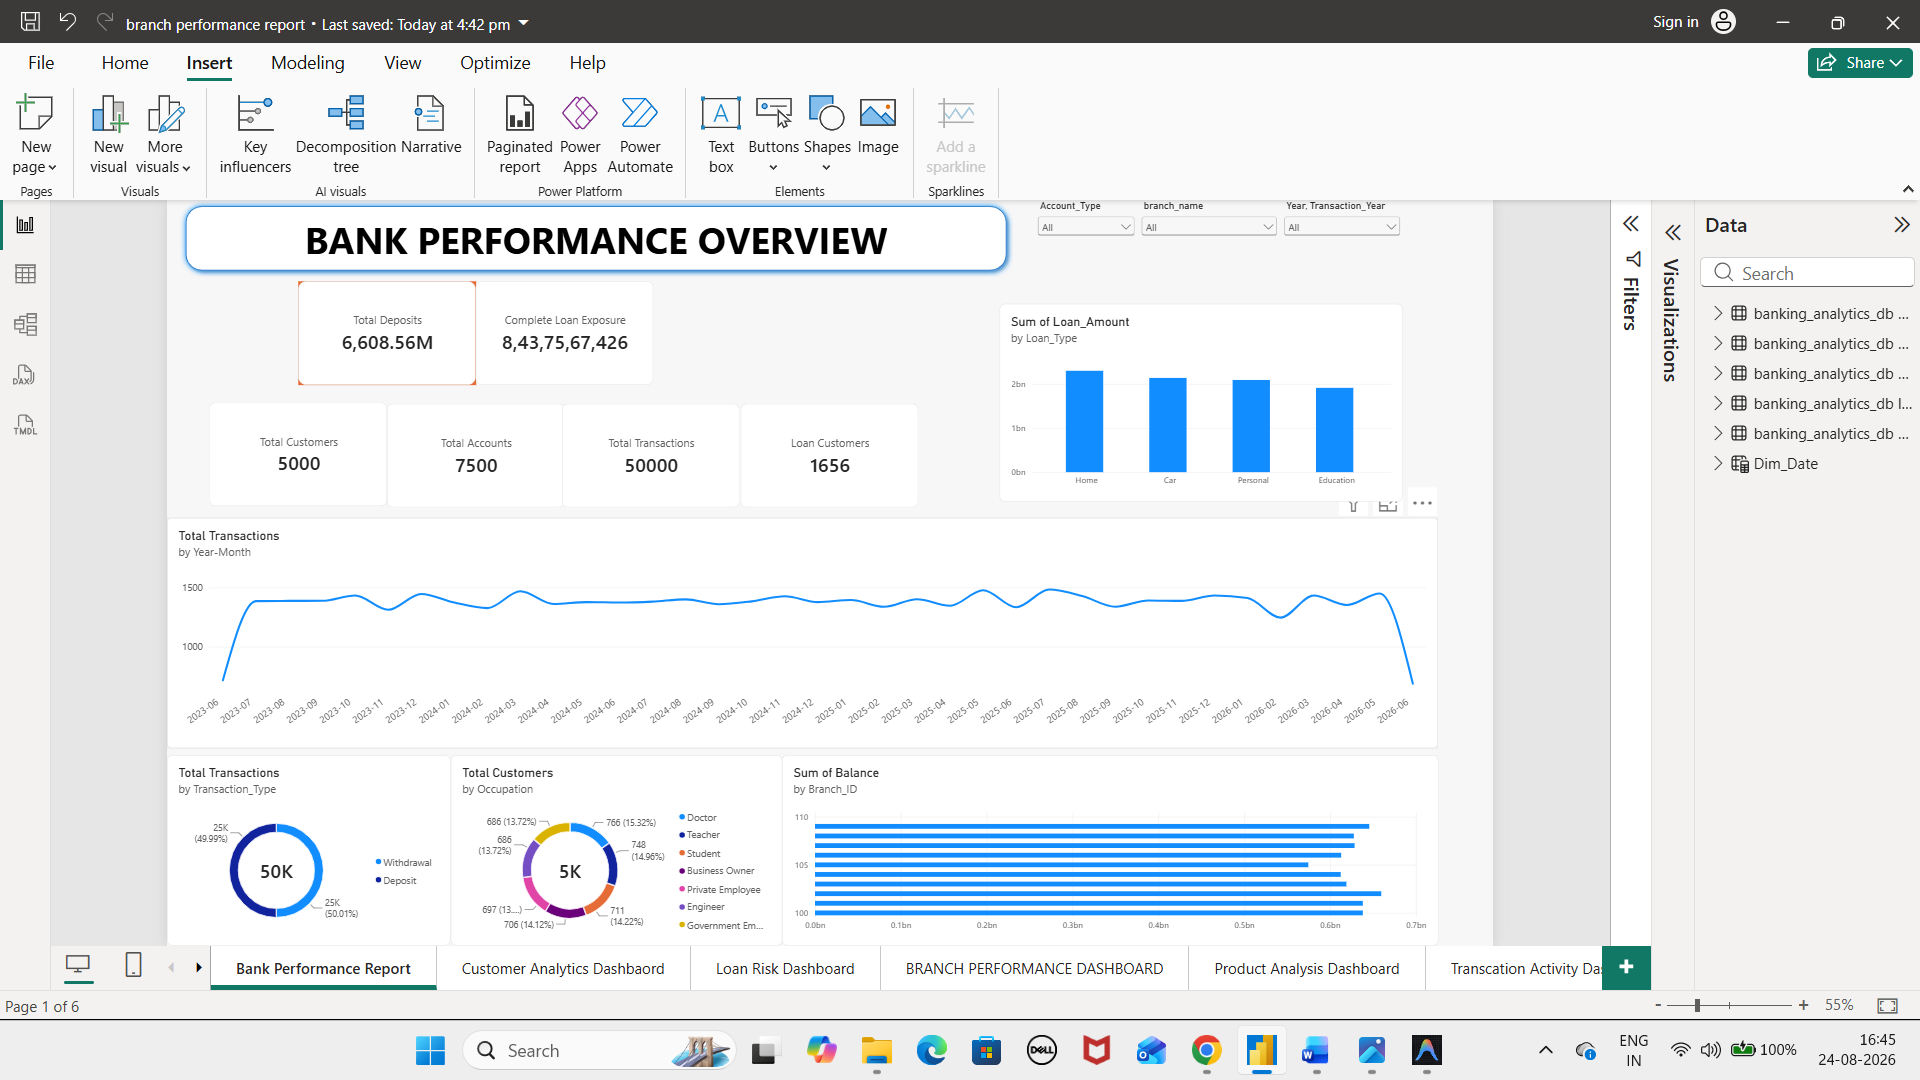

Layout of this report page (visuals, bound fields, positions):
{"tool":"powerbi","page":{"name":"Bank Performance Report","canvas":[1920,1080],"ordinal":0},"visuals":[{"type":"shape","box":[18,0,1206.2,111.1],"z":0},{"type":"cardVisual","fields":{"Data":["Dim_Date.Total Deposits"]},"box":[189.4,117.3,257.3,150.3],"z":1},{"type":"cardVisual","fields":{"Data":["Dim_Date.Complete Loan Exposure"]},"box":[446.7,117.3,257,150],"z":2},{"type":"cardVisual","fields":{"Data":["Dim_Date.Total Customers"]},"box":[61.5,293.2,257,150],"z":3},{"type":"cardVisual","fields":{"Data":["Dim_Date.Total Accounts"]},"box":[319,294.3,257,150],"z":4},{"type":"cardVisual","fields":{"Data":["Dim_Date.Total Transactions"]},"box":[572.2,294.3,257,150],"z":5},{"type":"cardVisual","fields":{"Data":["Dim_Date.Loan Customers"]},"box":[830.6,295,257,150],"z":6},{"type":"lineChart","fields":{"Category":["Dim_Date.Year-Month"],"Y":["Dim_Date.Total Transactions"]},"box":[0,460,1840,334],"z":7},{"type":"donutChart","fields":{"Category":["banking_analytics_db transactions.Transaction_Type"],"Y":["Dim_Date.Total Transactions"]},"box":[0,804,410,276],"z":8},{"type":"donutChart","fields":{"Category":["banking_analytics_db customers.Occupation"],"Y":["Dim_Date.Total Customers"]},"box":[410,804,480,276],"z":9},{"type":"clusteredBarChart","fields":{"Category":["banking_analytics_db branches.Branch_ID"],"Y":["Sum(banking_analytics_db accounts.Balance)"]},"box":[890,804,950,276],"z":10},{"type":"columnChart","fields":{"Category":["banking_analytics_db loans.Loan_Type"],"Y":["Sum(banking_analytics_db loans.Loan_Amount)"]},"box":[1206,150,584,286],"z":11},{"type":"slicer","fields":{"Values":["banking_analytics_db accounts.Account_Type"]},"box":[1256,0,150,150],"z":12},{"type":"slicer","fields":{"Values":["banking_analytics_db branches.Branch_Name"]},"box":[1406,0,206,150],"z":13},{"type":"slicer","fields":{"Values":["Dim_Date.Year","banking_analytics_db transactions.Transaction_Year"]},"box":[1612,0,178,150],"z":14}]}

Visuals, with their boxes on the page's 1920x1080 design canvas (x1, y1, x2, y2). These are canvas units, not pixel positions in the 1920x1080 screenshot, which may show the page scaled, cropped or inside an application window:
shape: (18,0,1224,111)
cardVisual - Dim_Date.Total Deposits: (189,117,447,268)
cardVisual - Dim_Date.Complete Loan Exposure: (447,117,704,267)
cardVisual - Dim_Date.Total Customers: (62,293,318,443)
cardVisual - Dim_Date.Total Accounts: (319,294,576,444)
cardVisual - Dim_Date.Total Transactions: (572,294,829,444)
cardVisual - Dim_Date.Loan Customers: (831,295,1088,445)
lineChart - Dim_Date.Year-Month x Dim_Date.Total Transactions: (0,460,1840,794)
donutChart - banking_analytics_db transactions.Transaction_Type x Dim_Date.Total Transactions: (0,804,410,1080)
donutChart - banking_analytics_db customers.Occupation x Dim_Date.Total Customers: (410,804,890,1080)
clusteredBarChart - banking_analytics_db branches.Branch_ID x Sum(banking_analytics_db accounts.Balance): (890,804,1840,1080)
columnChart - banking_analytics_db loans.Loan_Type x Sum(banking_analytics_db loans.Loan_Amount): (1206,150,1790,436)
slicer - banking_analytics_db accounts.Account_Type: (1256,0,1406,150)
slicer - banking_analytics_db branches.Branch_Name: (1406,0,1612,150)
slicer - Dim_Date.Year x banking_analytics_db transactions.Transaction_Year: (1612,0,1790,150)
